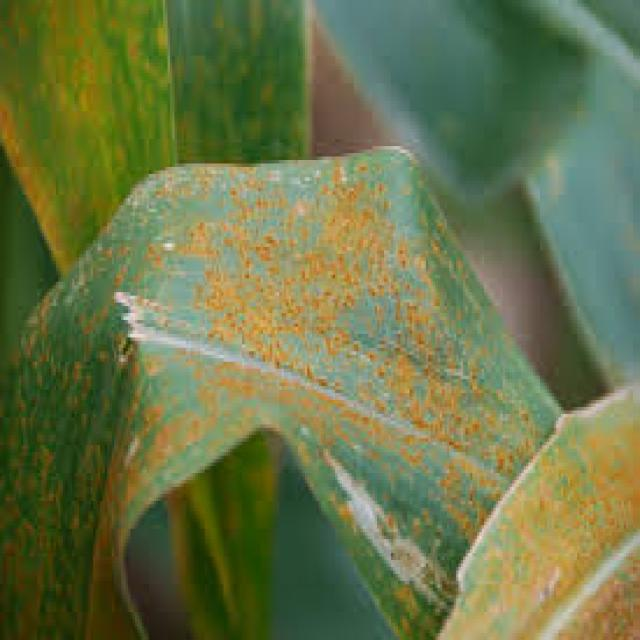Corn_Rust: (0, 108, 545, 629)
